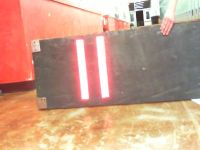switch: (96, 36, 110, 99), (76, 39, 90, 100)
